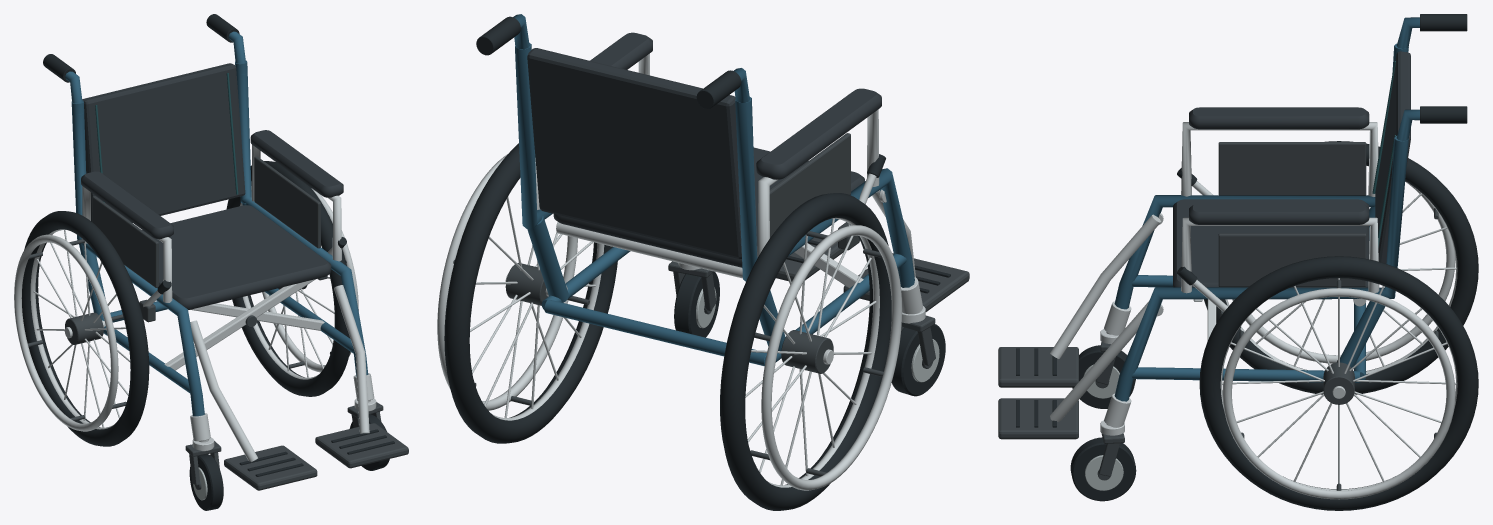
File: city-manual-wheelchair.glb
3 renders of one model, left to right at view 1: azimuth 30°, elevation 25°; view 2: azimuth 150°, elevation 25°; view 3: azimuth 270°, elevation 25°, orthographic. The views are drawn at different scales.
Parts seen in each view (by area): view 1: Assembly | Black upholstery, Assembly | Brushed satin aluminum, Assembly | Charcoal rubber wheels and grips, Assembly | Graphite frame fittings, Assembly | Midnight blue powder coat, Assembly | Dark textile bound edges; view 2: Assembly | Black upholstery, Assembly | Charcoal rubber wheels and grips, Assembly | Brushed satin aluminum, Assembly | Midnight blue powder coat, Assembly | Graphite frame fittings, Assembly | Pale caster hubs; view 3: Assembly | Charcoal rubber wheels and grips, Assembly | Brushed satin aluminum, Assembly | Graphite frame fittings, Assembly | Black upholstery, Assembly | Midnight blue powder coat, Assembly | Pale caster hubs, Assembly | Dark textile bound edges.
Part boxes in pixels (x1=…): Assembly | Black upholstery: x1=81, y1=63, x2=343, y2=309; Assembly | Brushed satin aluminum: x1=14, y1=145, x2=376, y2=462; Assembly | Charcoal rubber wheels and grips: x1=21, y1=14, x2=394, y2=510; Assembly | Graphite frame fittings: x1=27, y1=156, x2=408, y2=490; Assembly | Midnight blue powder coat: x1=65, y1=31, x2=368, y2=416; Assembly | Dark textile bound edges: x1=95, y1=73, x2=238, y2=202; Assembly | Black upholstery: x1=527, y1=32, x2=881, y2=267; Assembly | Charcoal rubber wheels and grips: x1=444, y1=16, x2=950, y2=510; Assembly | Brushed satin aluminum: x1=437, y1=53, x2=925, y2=490; Assembly | Midnight blue powder coat: x1=513, y1=14, x2=914, y2=366; Assembly | Graphite frame fittings: x1=453, y1=133, x2=969, y2=476; Assembly | Pale caster hubs: x1=696, y1=287, x2=939, y2=382; Assembly | Charcoal rubber wheels and grips: x1=1016, y1=14, x2=1478, y2=510; Assembly | Brushed satin aluminum: x1=1050, y1=122, x2=1457, y2=499; Assembly | Graphite frame fittings: x1=998, y1=142, x2=1438, y2=490; Assembly | Black upholstery: x1=1173, y1=51, x2=1410, y2=287; Assembly | Midnight blue powder coat: x1=1114, y1=17, x2=1419, y2=401; Assembly | Pale caster hubs: x1=1084, y1=364, x2=1123, y2=490; Assembly | Dark textile bound edges: x1=1372, y1=61, x2=1395, y2=247.
Bounding box in the file's own units: 0.714 × 0.935 × 1.04.
